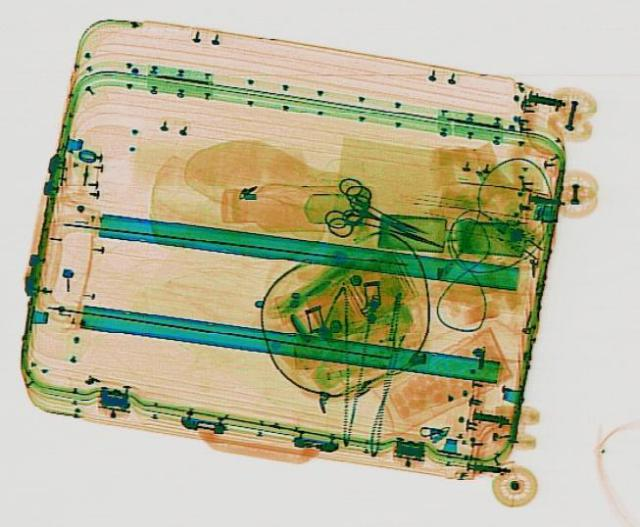Scissors: (320, 181, 452, 264)
